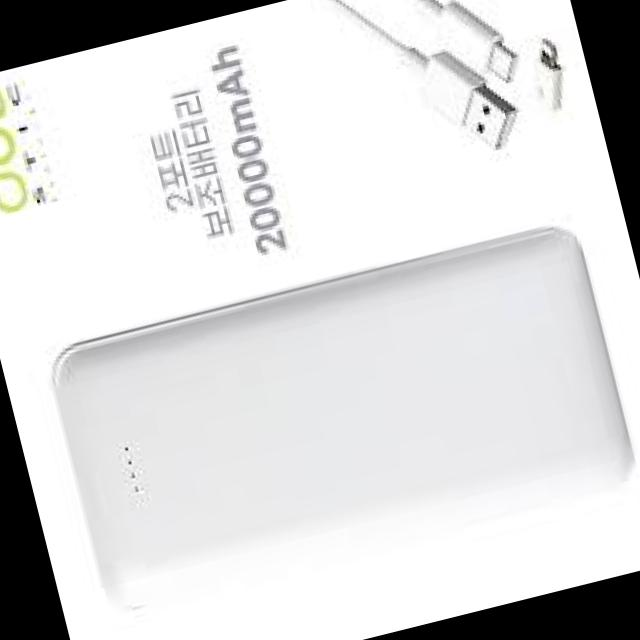power_bank: (36, 210, 640, 618)
